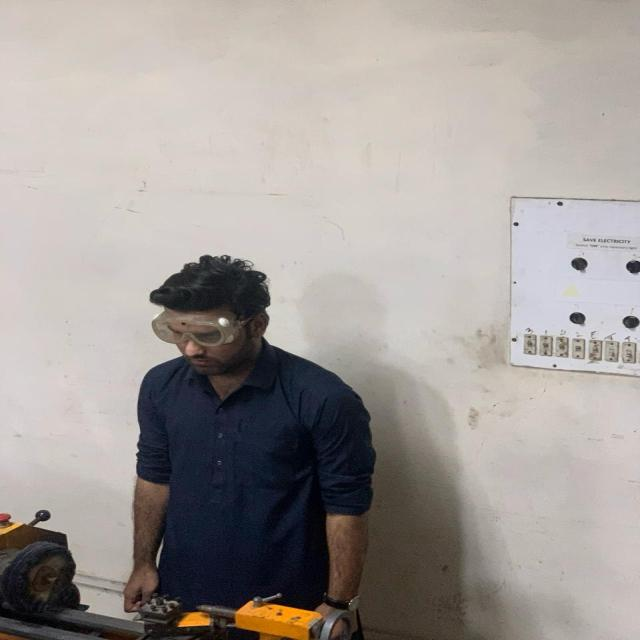googles: (151, 312, 235, 345)
